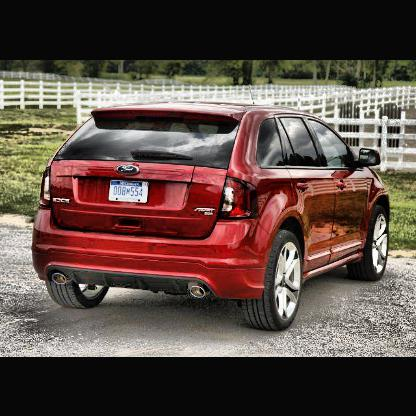Ford Edge SUV 2012: (34, 110, 392, 333)
